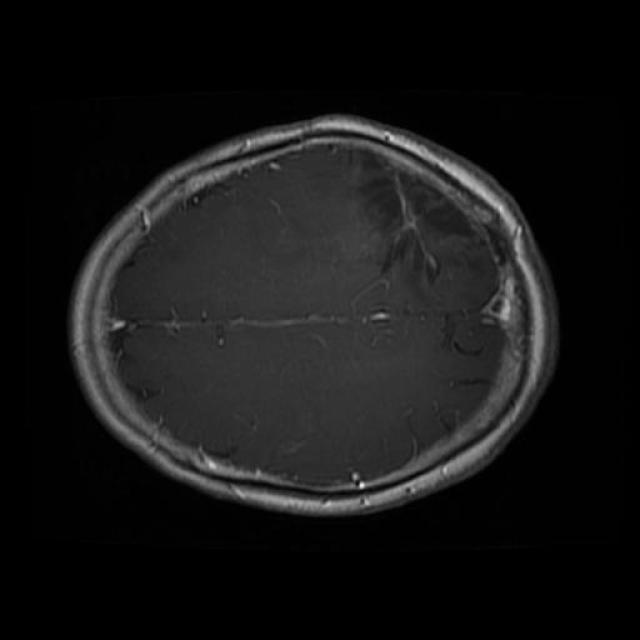Glioma: (358, 151, 480, 282)
